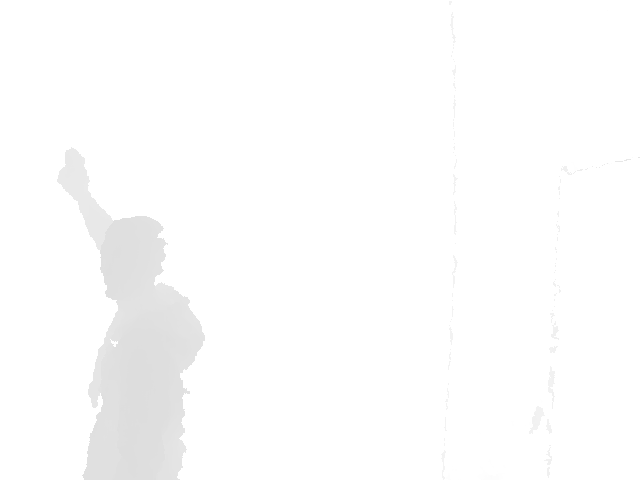hand: (56, 148, 92, 194)
head: (98, 215, 169, 300)
person: (57, 148, 207, 480)
